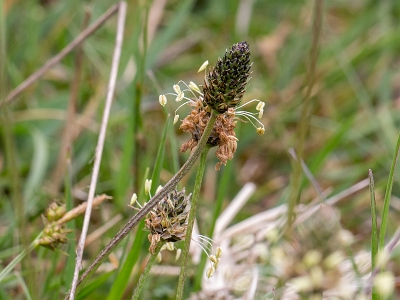buckhorn plantain: (120, 30, 263, 276)
